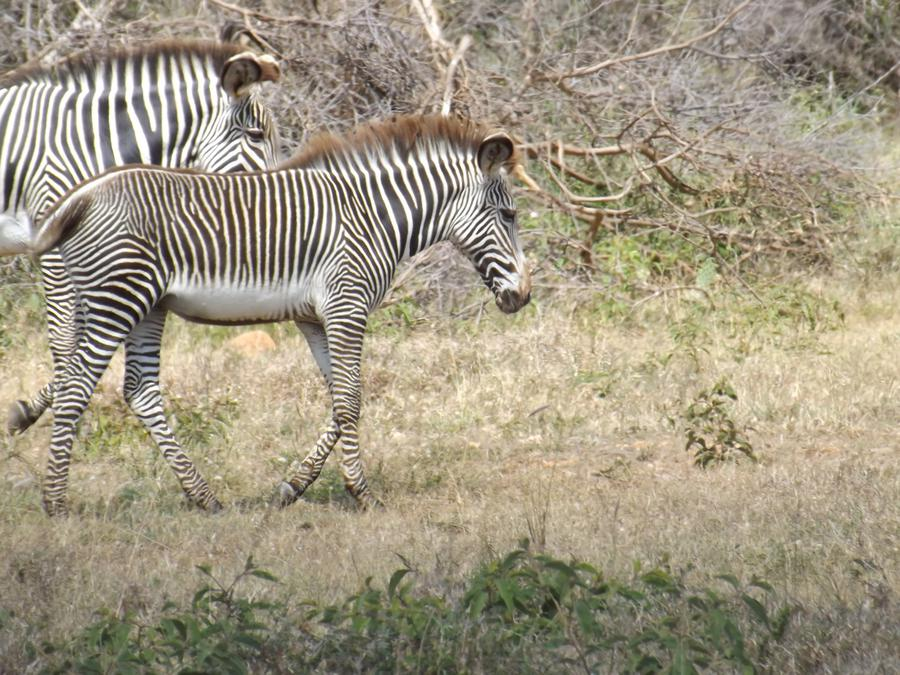zebra_grevys: (64, 161, 374, 308)
